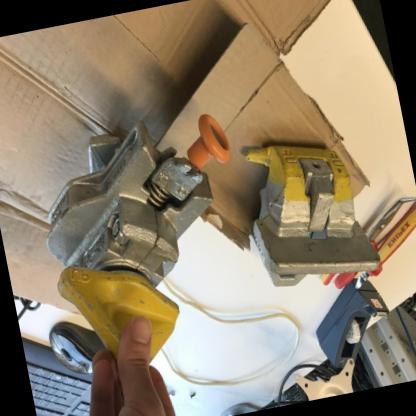Twistlock: (23, 97, 270, 391), (233, 113, 392, 306)
